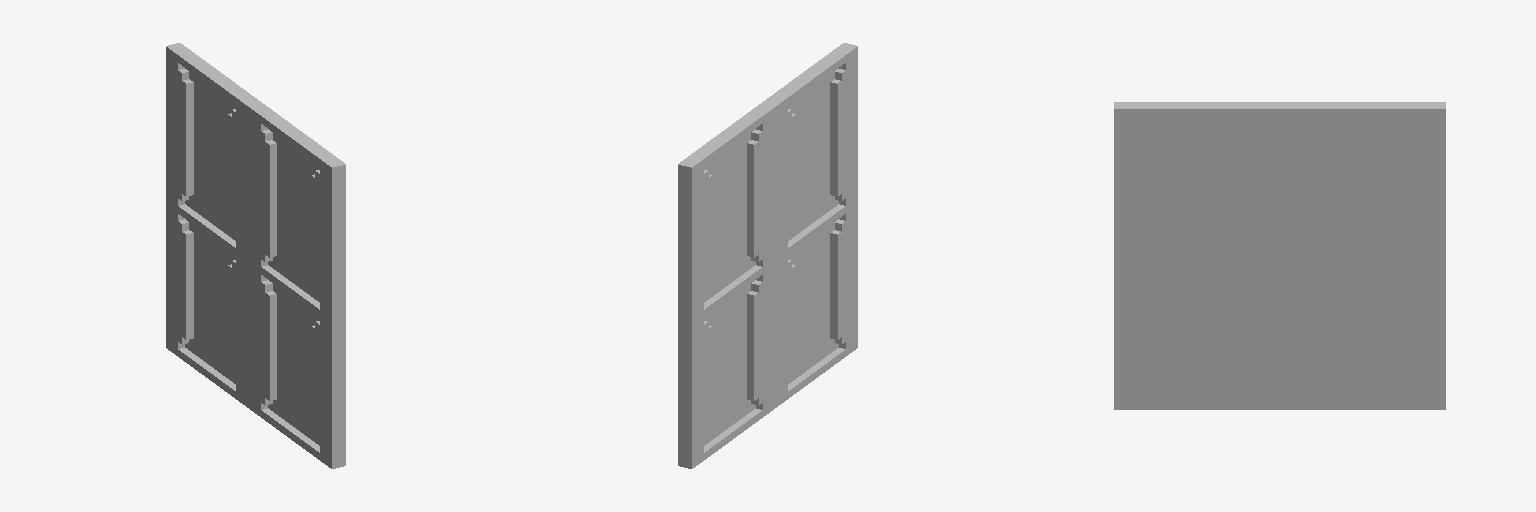
File: Wall1.obj
3 views of the same model, side by side, from view 1: azimuth 30°, elevation 25°; view 2: azimuth 150°, elevation 25°; view 3: azimuth 270°, elevation 25° (orthographic).
Visible parts, largest first — view 1: object 1; view 2: object 1; view 3: object 1.
Part boxes in pixels (left/top/right/bottom): object 1: left=166, top=43, right=345, bottom=468; object 1: left=678, top=43, right=857, bottom=468; object 1: left=1114, top=102, right=1445, bottom=409.
Size of the model in its own units: 0.2 by 4 by 4.